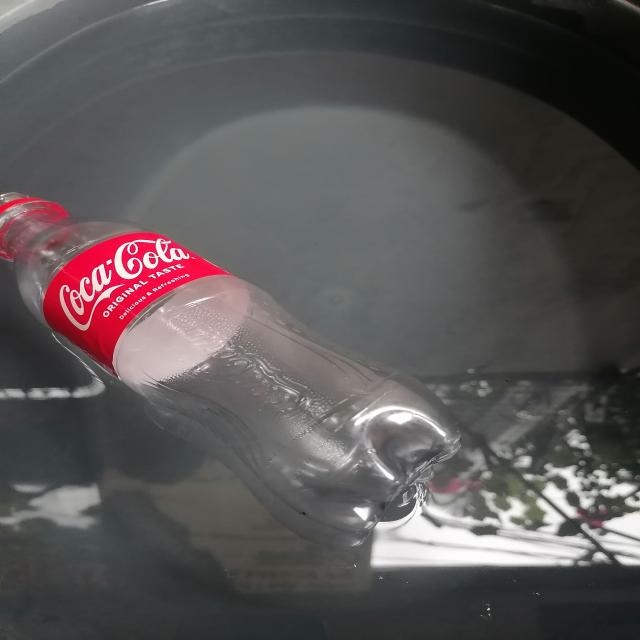Plastic Bottle: (0, 193, 460, 547)
